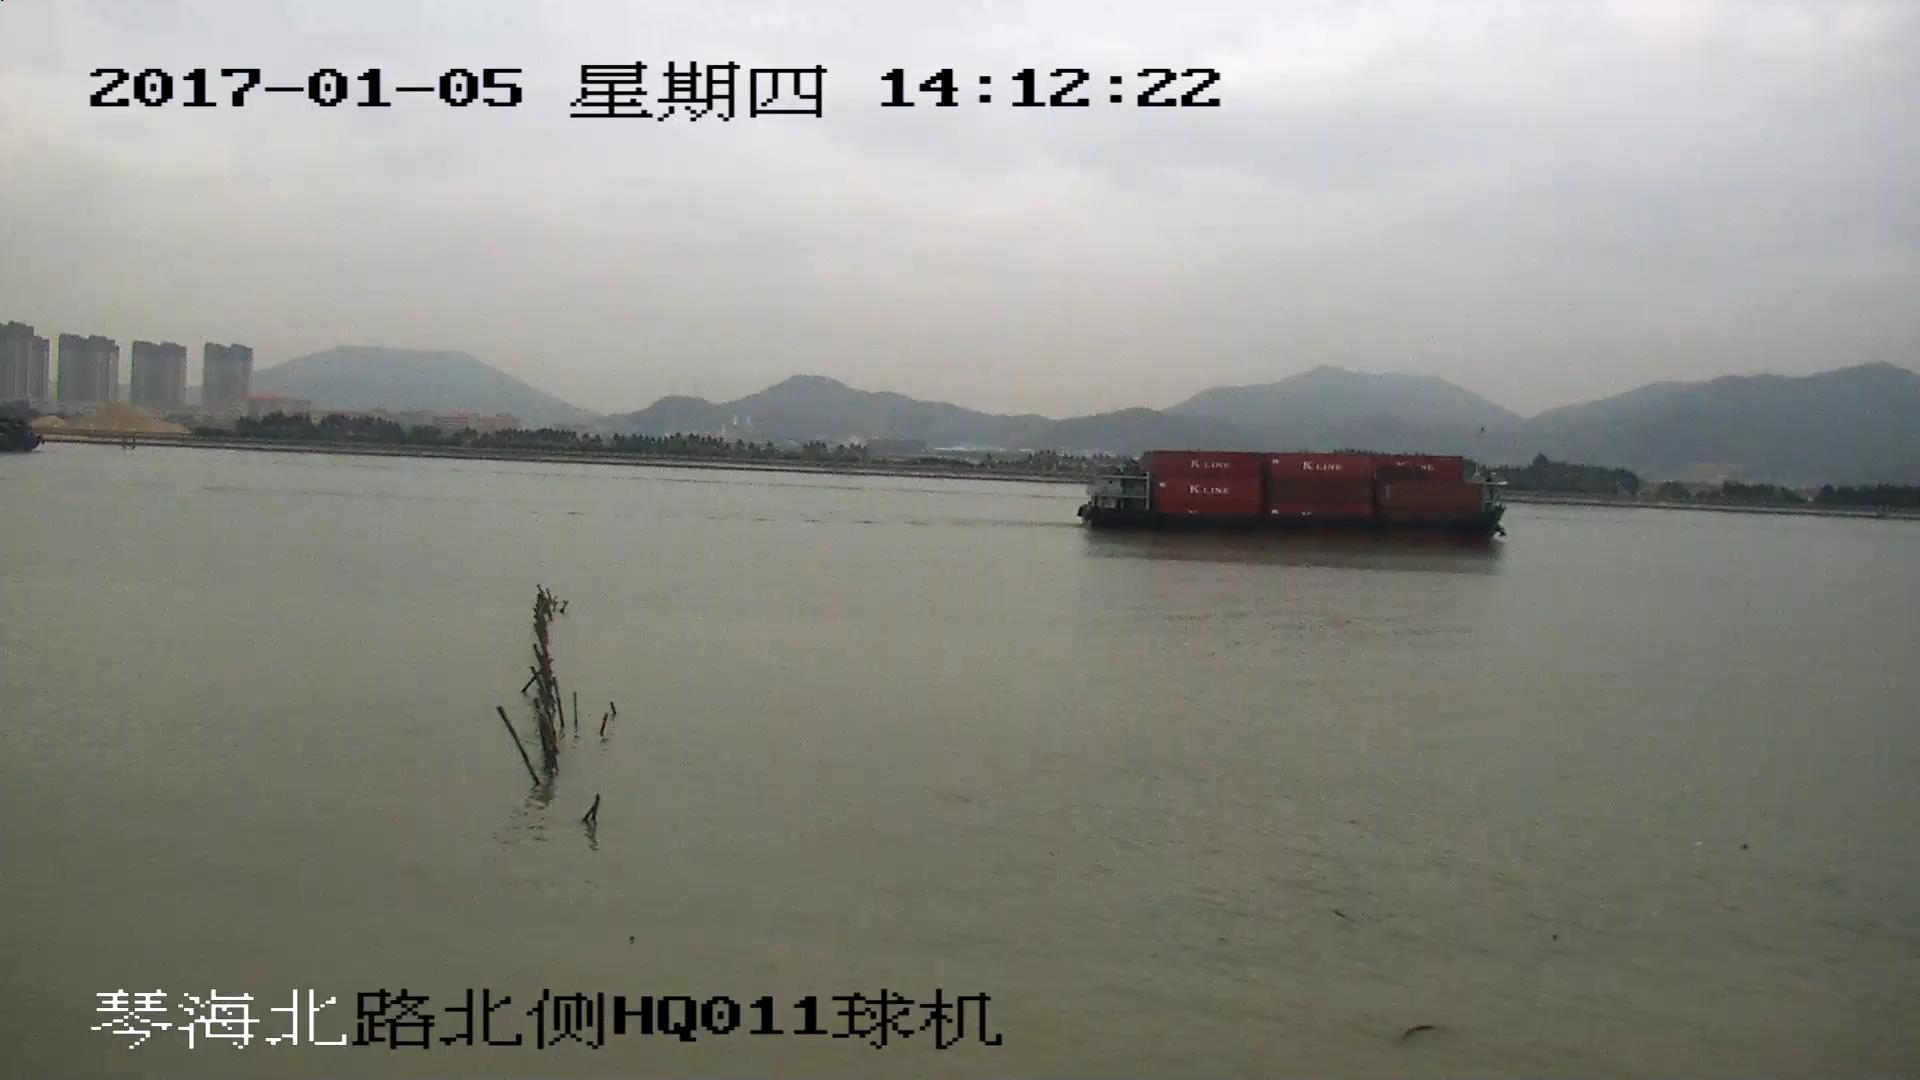container ship: (1077, 450, 1508, 547)
